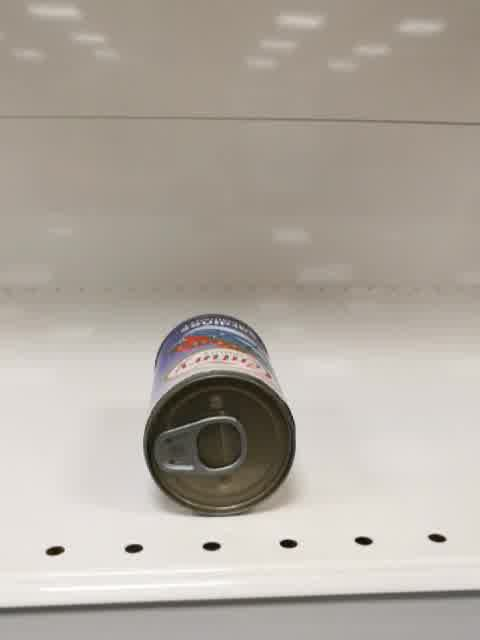sardine: (141, 313, 296, 519)
